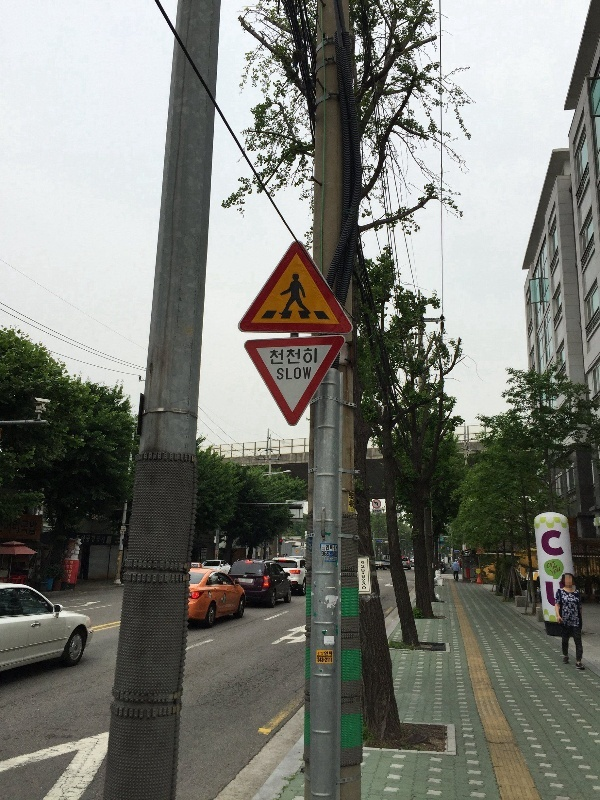text: (545, 581, 560, 616), (545, 529, 560, 558), (273, 347, 288, 366), (289, 347, 304, 366), (305, 347, 317, 366), (289, 367, 304, 381), (4, 519, 16, 536), (361, 561, 368, 590), (21, 519, 32, 536), (277, 367, 288, 381), (547, 560, 560, 571), (561, 581, 565, 616), (549, 566, 560, 578), (82, 534, 96, 543), (561, 529, 565, 558), (86, 535, 96, 545), (305, 367, 312, 381), (97, 535, 106, 545), (541, 529, 544, 558), (33, 519, 38, 536), (322, 551, 336, 557), (66, 560, 80, 566), (65, 569, 80, 574), (66, 565, 80, 570), (17, 519, 21, 536), (326, 545, 336, 551), (321, 657, 333, 662), (68, 574, 80, 579), (553, 563, 560, 571), (440, 535, 448, 542), (321, 651, 332, 656), (67, 579, 80, 583), (115, 541, 128, 545), (373, 510, 384, 514), (108, 535, 112, 546), (270, 347, 272, 366), (116, 537, 128, 540), (543, 581, 544, 616), (454, 550, 464, 553), (349, 492, 352, 501), (350, 499, 352, 509), (353, 499, 355, 509), (193, 564, 198, 568), (353, 492, 355, 501), (77, 534, 80, 540), (349, 508, 352, 514), (317, 651, 320, 656), (481, 548, 484, 553), (477, 570, 480, 574), (353, 508, 355, 514), (318, 657, 320, 662), (337, 545, 338, 551), (63, 565, 64, 570), (65, 565, 66, 570), (479, 548, 480, 553), (191, 564, 192, 568)
